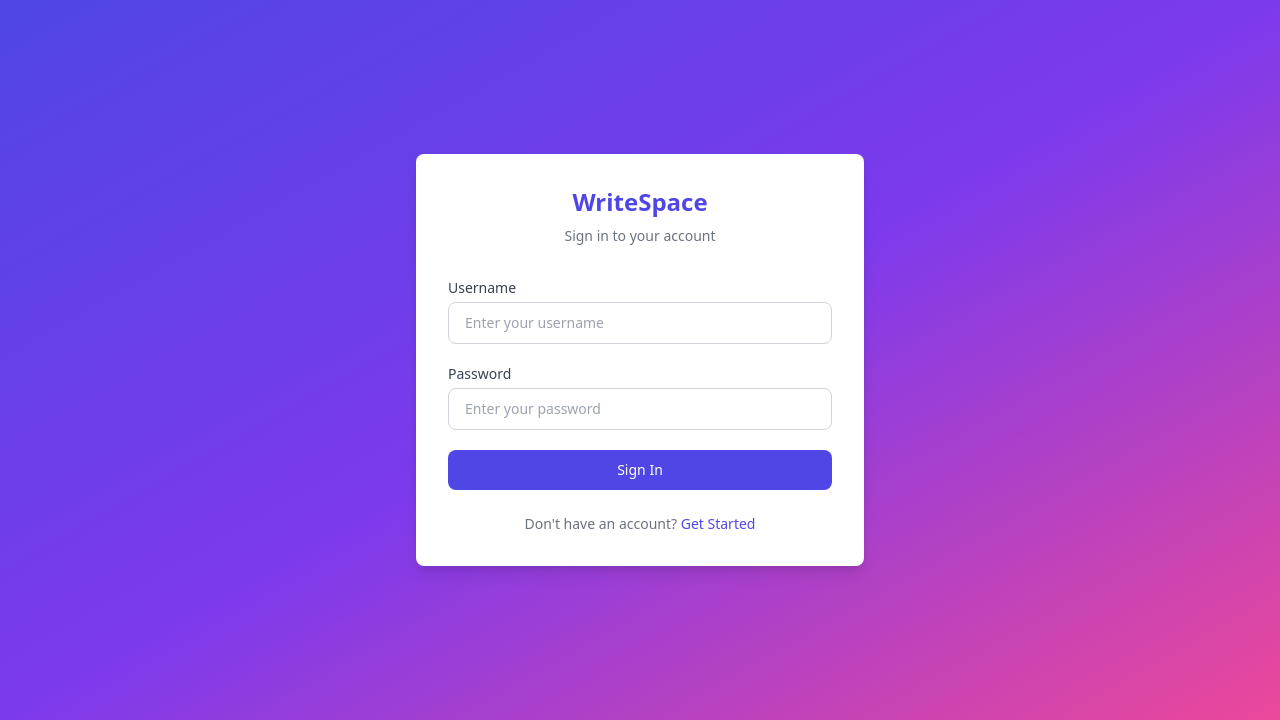
Test: LoginPage › validation › displays error when username is empty
In the password field labelled "Password": (640, 409) top-left (448, 388), bottom-right (832, 430), type "somepassword"
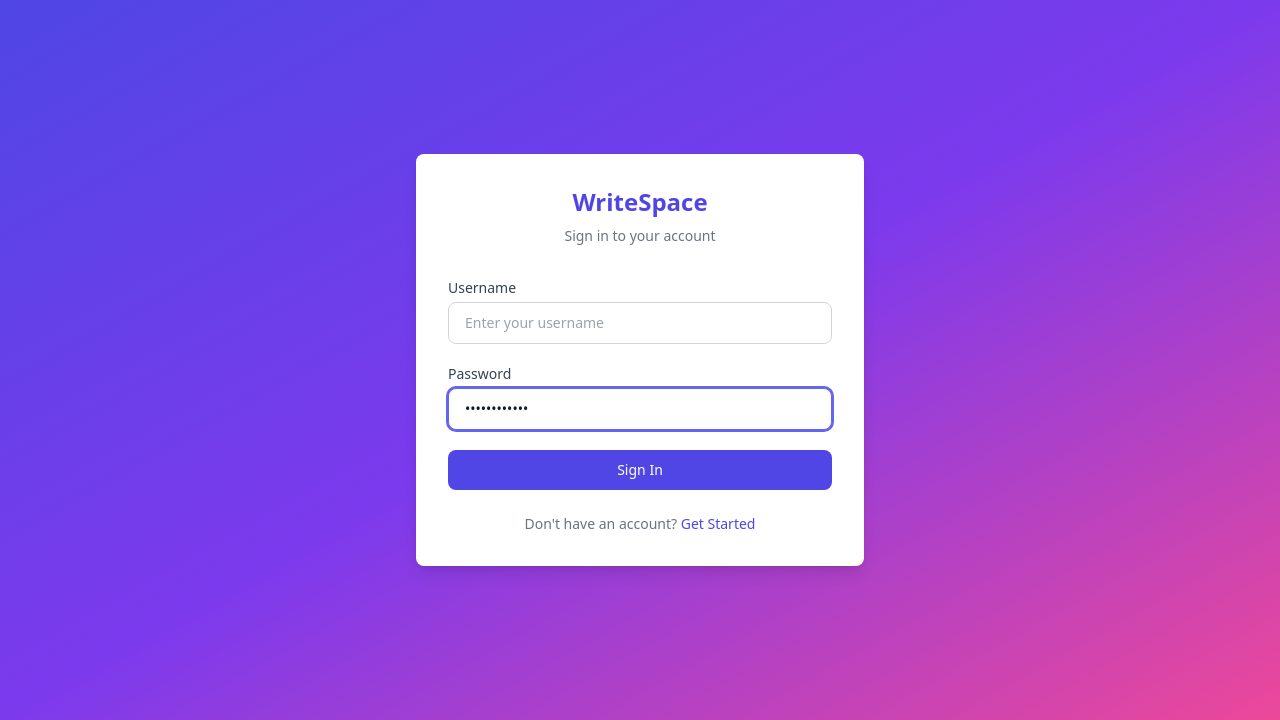
Click the button "Sign In": (640, 470) top-left (448, 450), bottom-right (832, 490)
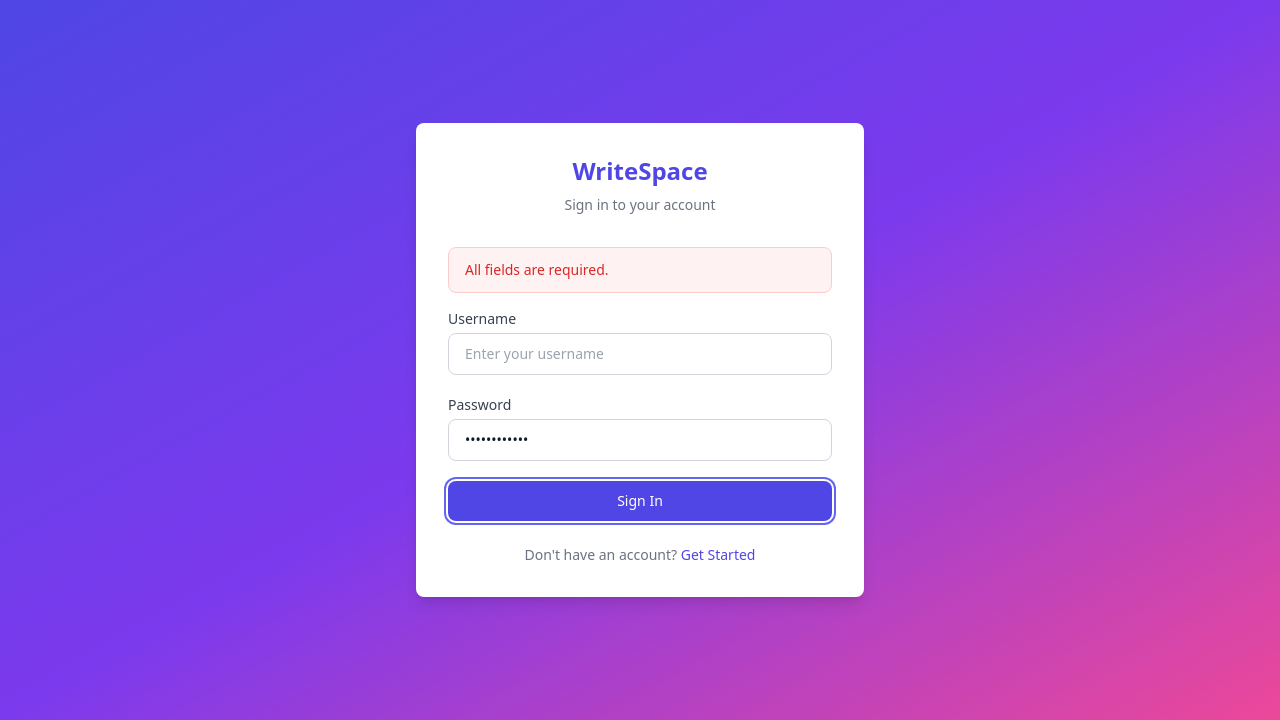
Expected: the text "All fields are required." is shown, top-left (448, 247), bottom-right (832, 293)
